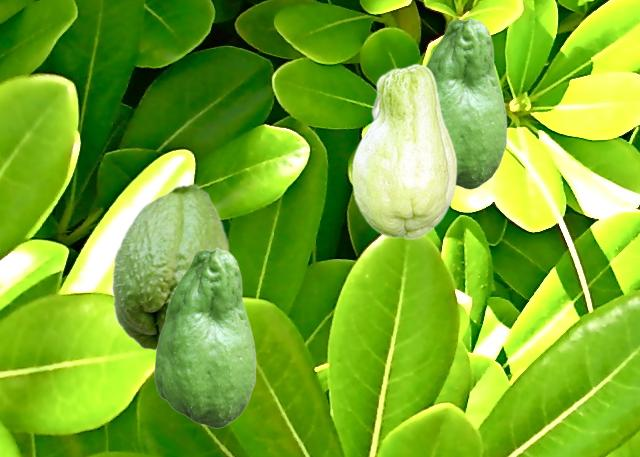sayote: (111, 182, 229, 351), (351, 63, 456, 239), (154, 247, 255, 427), (426, 17, 506, 188)
